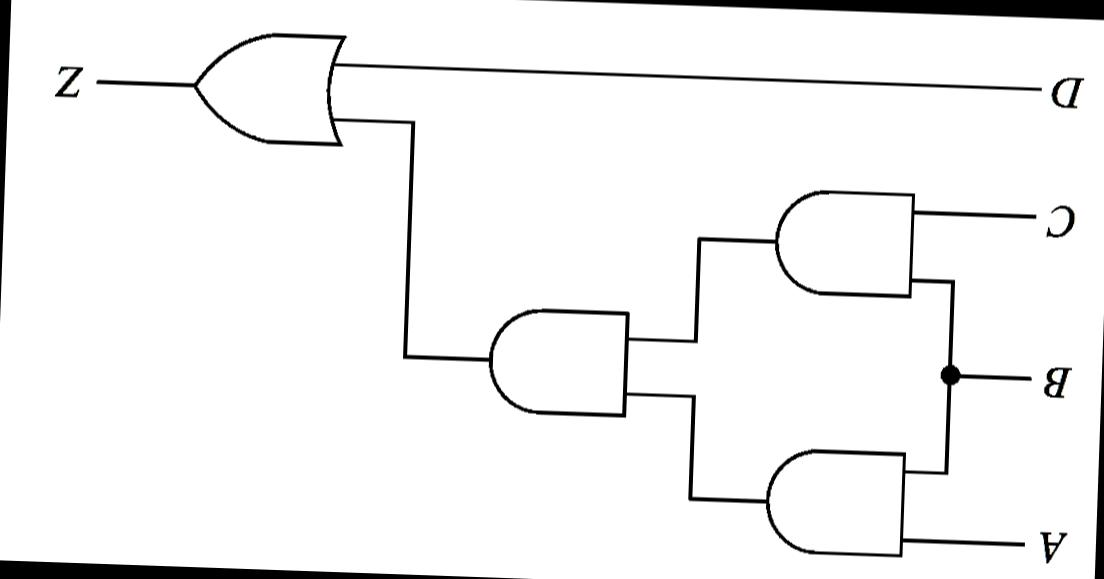and: (473, 296, 639, 426), (762, 180, 925, 306), (752, 440, 916, 565)
or: (181, 21, 356, 152)
